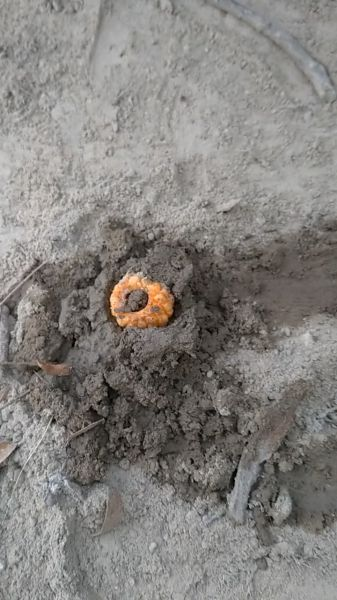eggs: (107, 264, 180, 334)
